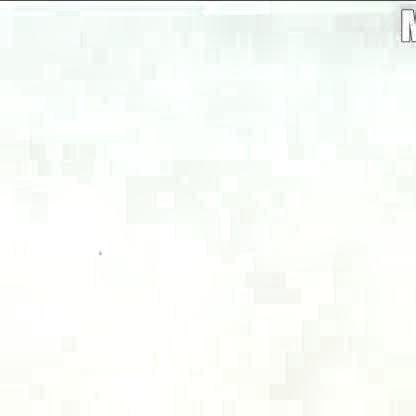golfball: (96, 245, 101, 252)
